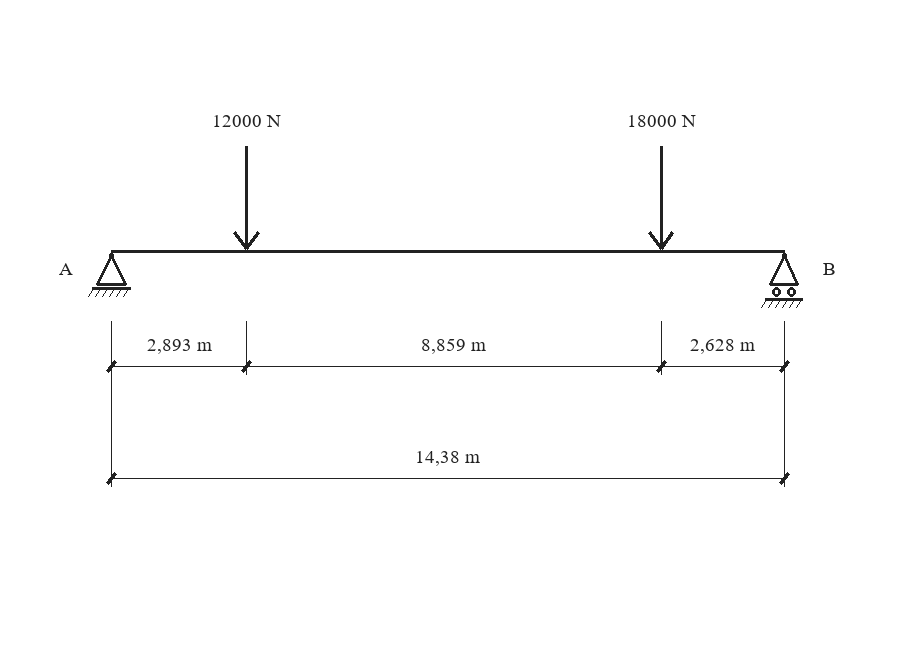pin_support: (88, 253, 131, 297)
point_load: (233, 146, 260, 250), (648, 146, 674, 250)
roller_support: (761, 253, 803, 308)
